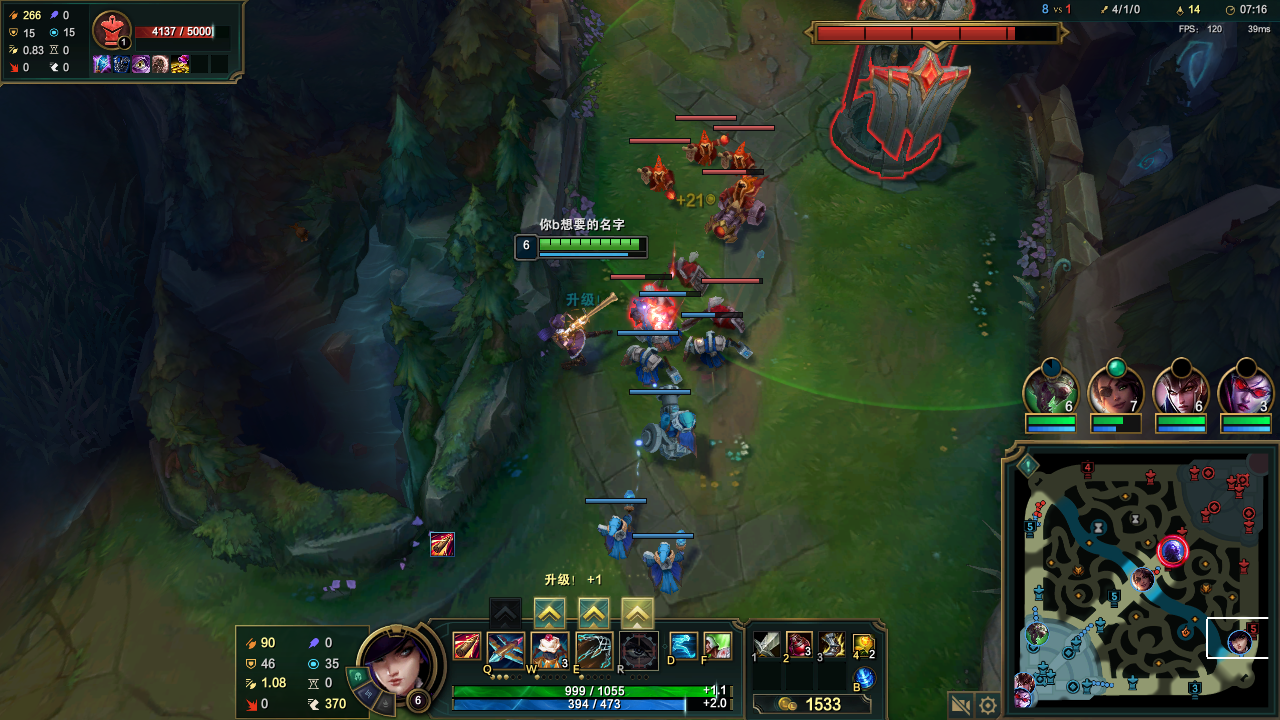DFFYT: (814, 25, 998, 185)
DFXB: (713, 186, 760, 232), (705, 290, 747, 330), (681, 127, 718, 163), (645, 159, 678, 192), (633, 291, 663, 318), (725, 143, 749, 168)
Shenji: (537, 599, 560, 626), (582, 605, 603, 621)
Tuijianshengji: (624, 600, 649, 625)
WFXB: (645, 403, 699, 460), (627, 347, 672, 390), (686, 336, 738, 373), (599, 515, 633, 552), (651, 546, 681, 584)
